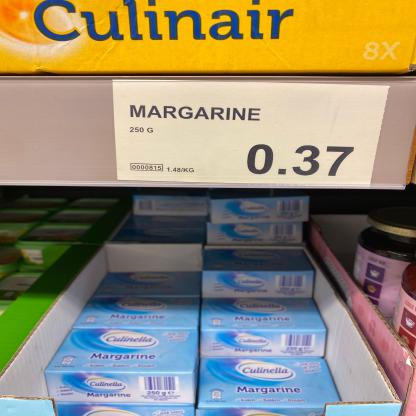prtg: (114, 81, 389, 188)
